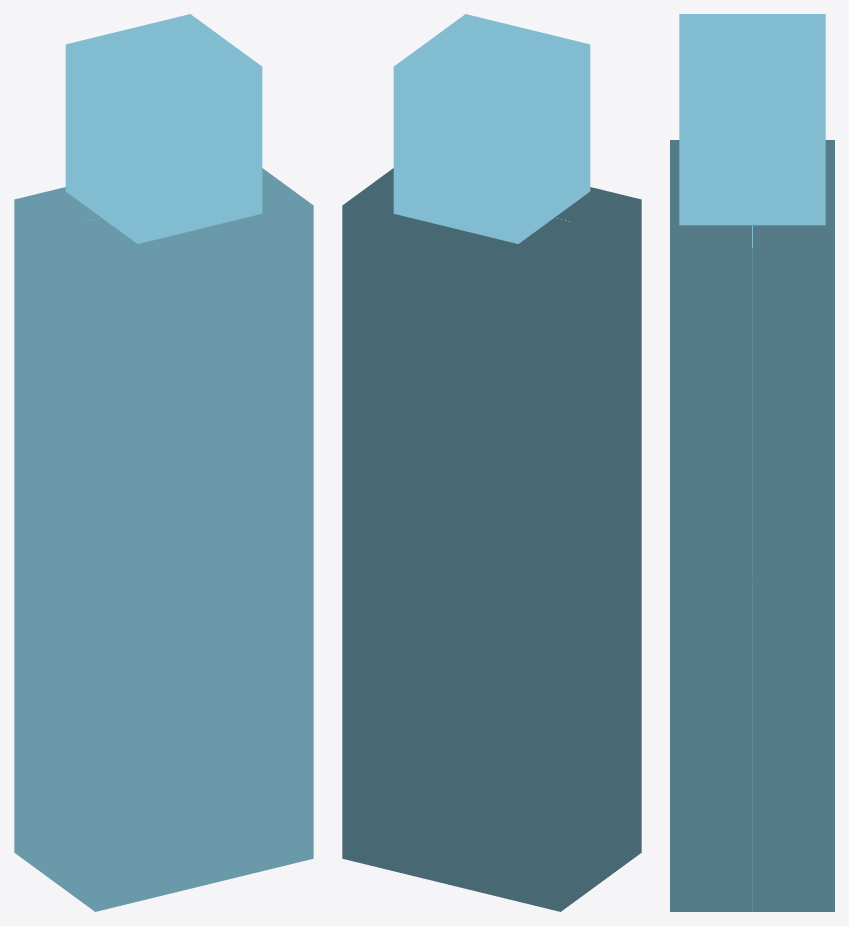
3 renders of one model, left to right at view 1: azimuth 30°, elevation 25°; view 2: azimuth 150°, elevation 25°; view 3: azimuth 270°, elevation 25°, orthographic.
Visible parts, largest first — view 1: Root; view 2: Root; view 3: Root.
Boxes of the visible parts, x1,y1,x2,y2 form: Root: (14,14,313,911); Root: (342,14,641,911); Root: (670,14,834,911).
Bounding box in the file's own units: 0.56 × 1.96 × 0.36.
